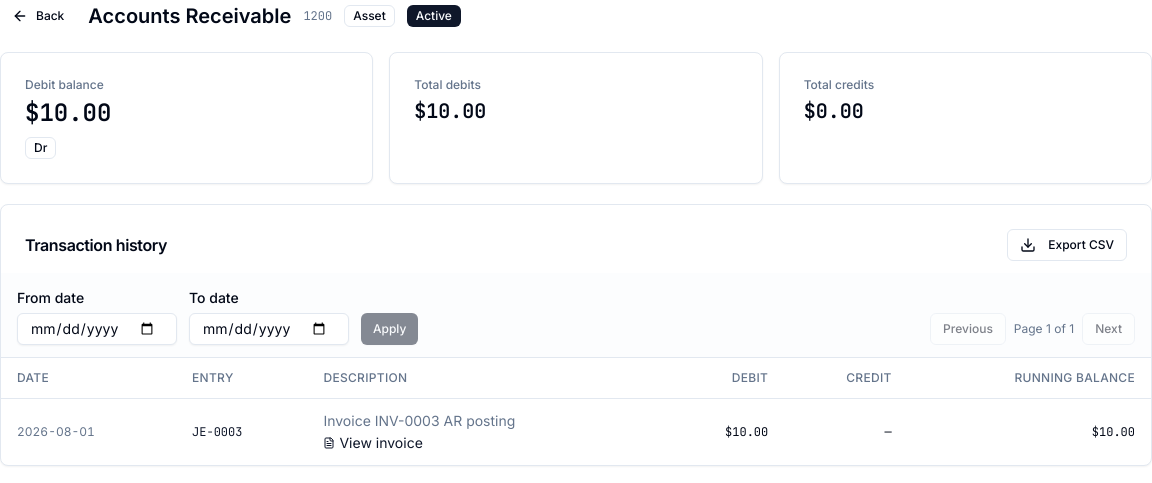
Test: AccountDetailView — date-range filter + CSV export › renders the from/to date inputs and Apply filter button
Expected: the date field labelled "To date" is shown, x1=189 y1=313 x2=349 y2=345
Expected: the button "Apply" is disabled, x1=361 y1=313 x2=418 y2=345
Type "2026-08-01" into the date field labelled "From date" at (97, 329), box x1=17 y1=313 x2=177 y2=345
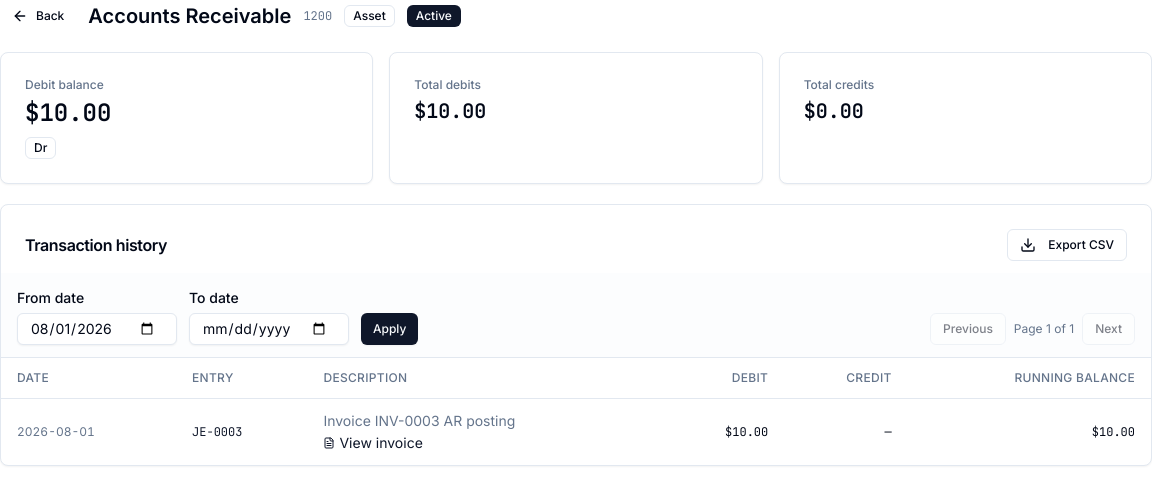
Result: the button "Apply" is enabled at x1=361 y1=313 x2=418 y2=345
